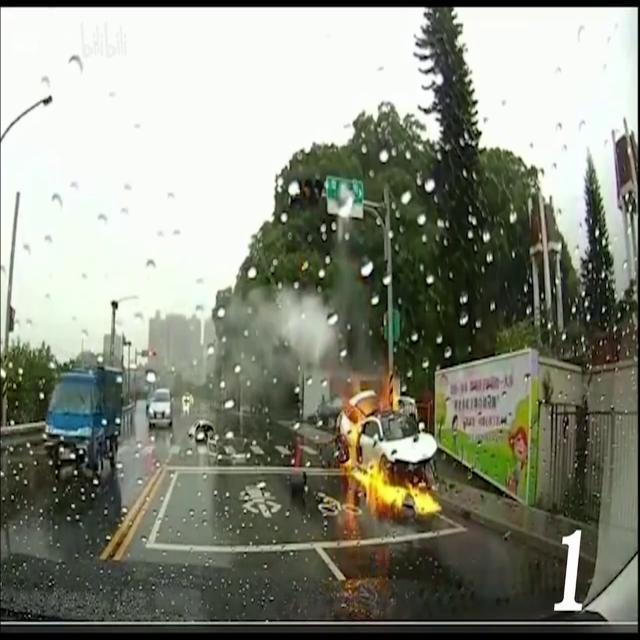normal: (12, 297, 182, 525)
single accident: (282, 297, 422, 548)
